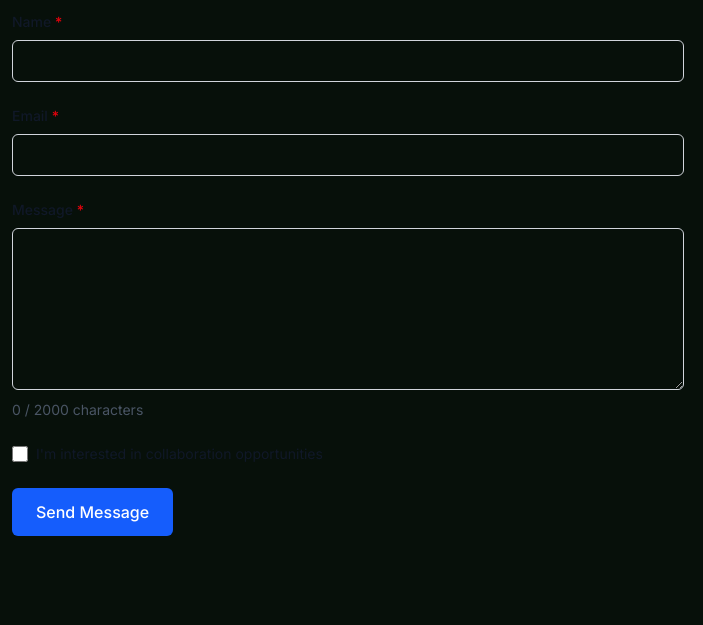
Scenario: FeedbackForm › shows error message on submission failure
Type "John Doe" into the field labelled "Name *". click: (348, 61)
box: [12,40,684,82]
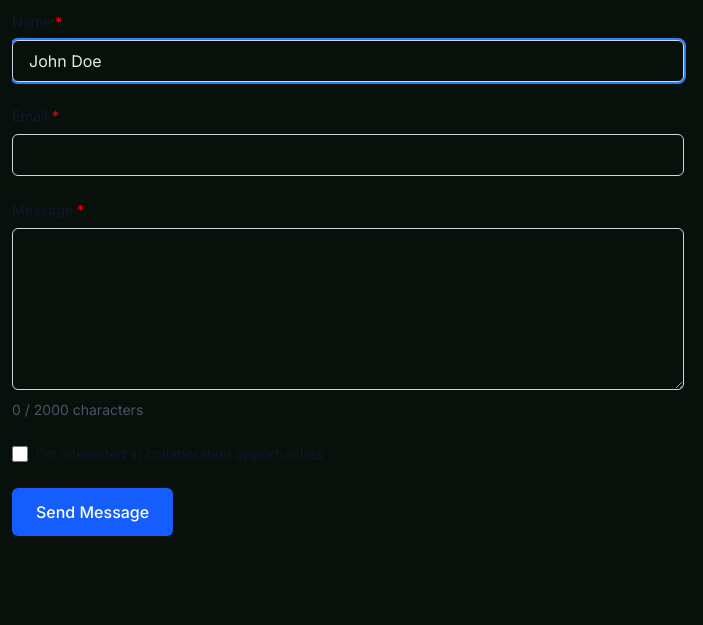
Type "john@example.com" into the field labelled "Email *". click: (348, 155)
box: [12,134,684,176]
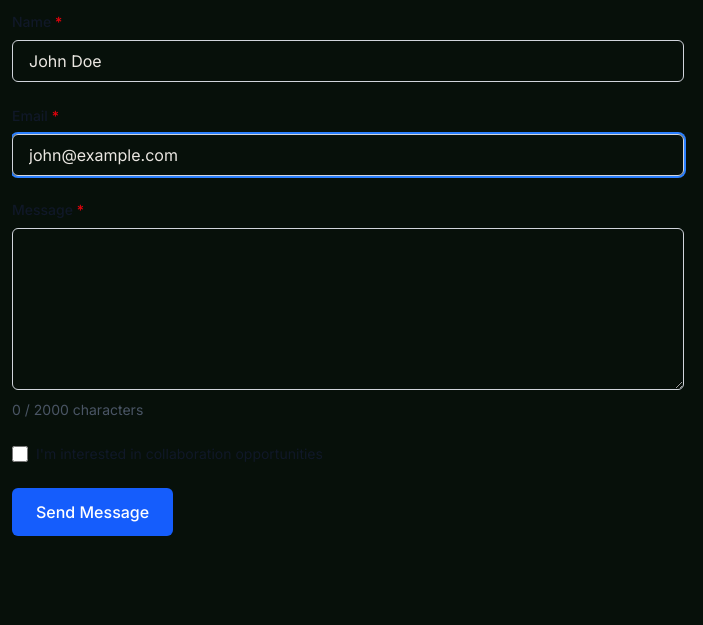
Type "This is a test message that is long enough." into the text box labelled "Message *". click: (348, 309)
box: [12,228,684,390]
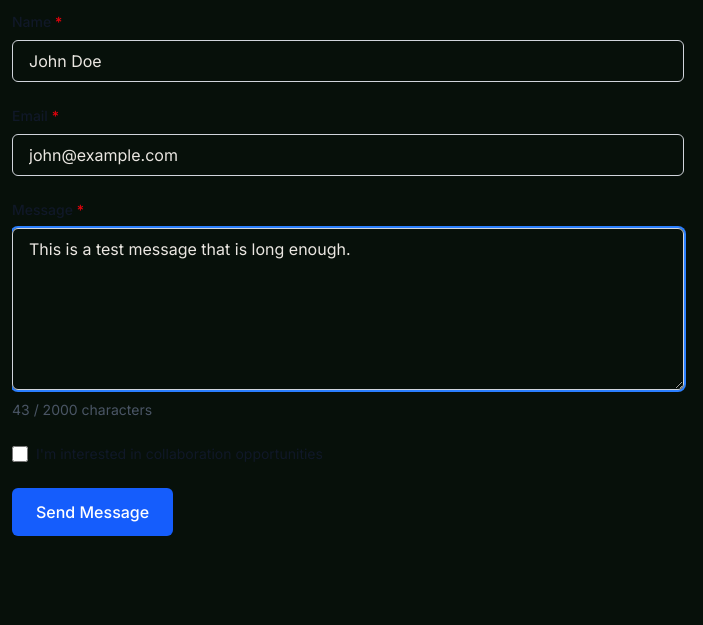
Click the button "Send Message". click: (93, 512)
box: [12,488,173,536]
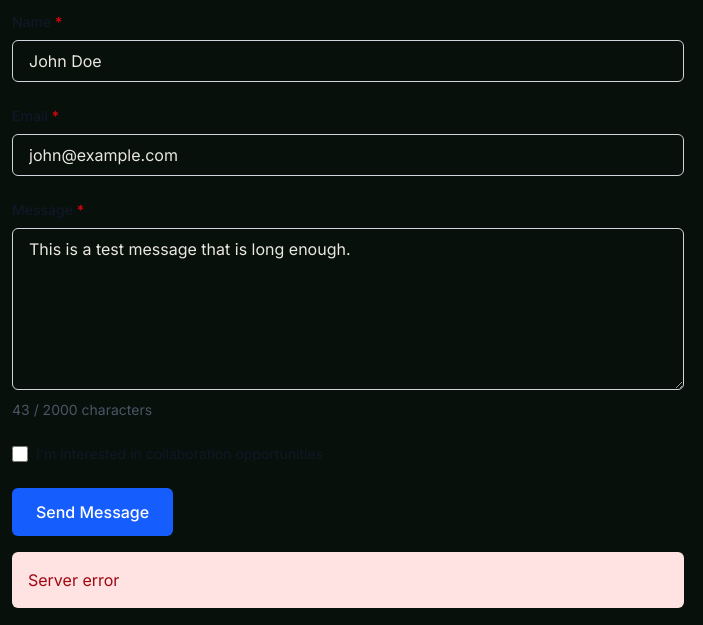
Check: the text "Server error" is shown, box [12,552,684,608]
